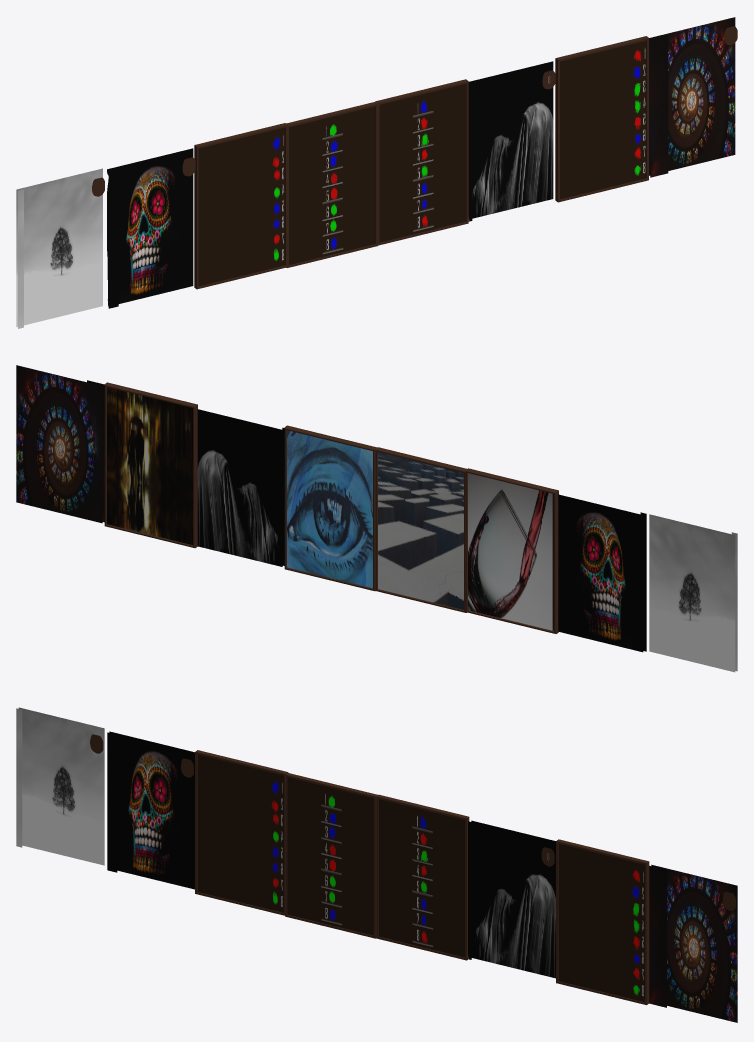
The model's file is paintingsNEW.fbx.
3 views of the same model, one above another, from view 1: azimuth 30°, elevation 25°; view 2: azimuth 150°, elevation 25°; view 3: azimuth 330°, elevation 25° (orthographic).
Parts seen in each view (by area): view 1: painting2, painting7, painting3, painting4, painting6, painting5, painting1, painting_8; view 2: painting7, painting2, painting3, painting4, painting6, painting1, painting5, painting_8; view 3: painting2, painting3, painting7, painting4, painting6, painting5, painting1, painting_8.
Part boxes in pixels (bbox=[...]): painting2: bbox=[555, 36, 648, 202]; painting7: bbox=[194, 123, 287, 289]; painting3: bbox=[375, 79, 468, 245]; painting4: bbox=[286, 101, 377, 267]; painting6: bbox=[649, 17, 737, 177]; painting5: bbox=[16, 168, 104, 328]; painting1: bbox=[107, 148, 195, 308]; painting_8: bbox=[468, 61, 555, 221]; painting7: bbox=[465, 468, 558, 633]; painting2: bbox=[104, 382, 197, 548]; painting3: bbox=[284, 425, 377, 591]; painting4: bbox=[375, 447, 466, 612]; painting6: bbox=[16, 365, 104, 523]; painting1: bbox=[558, 494, 646, 652]; painting5: bbox=[649, 514, 737, 672]; painting_8: bbox=[197, 409, 284, 566]; painting2: bbox=[556, 839, 649, 1005]; painting3: bbox=[376, 794, 469, 960]; painting7: bbox=[195, 750, 288, 915]; painting4: bbox=[285, 773, 377, 938]; painting6: bbox=[649, 864, 737, 1022]; painting5: bbox=[16, 707, 104, 865]; painting1: bbox=[107, 731, 194, 889]; painting_8: bbox=[468, 820, 555, 978].
Bounding box in the file's own units: 8977 × 1736 × 91.86.
